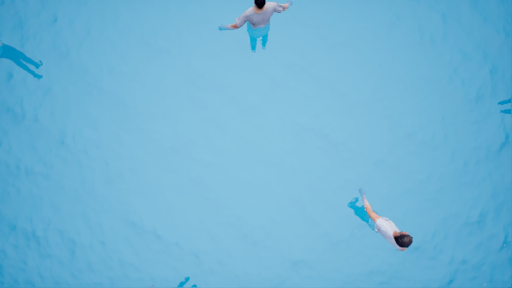person: (345, 187, 417, 256), (213, 1, 300, 57)
